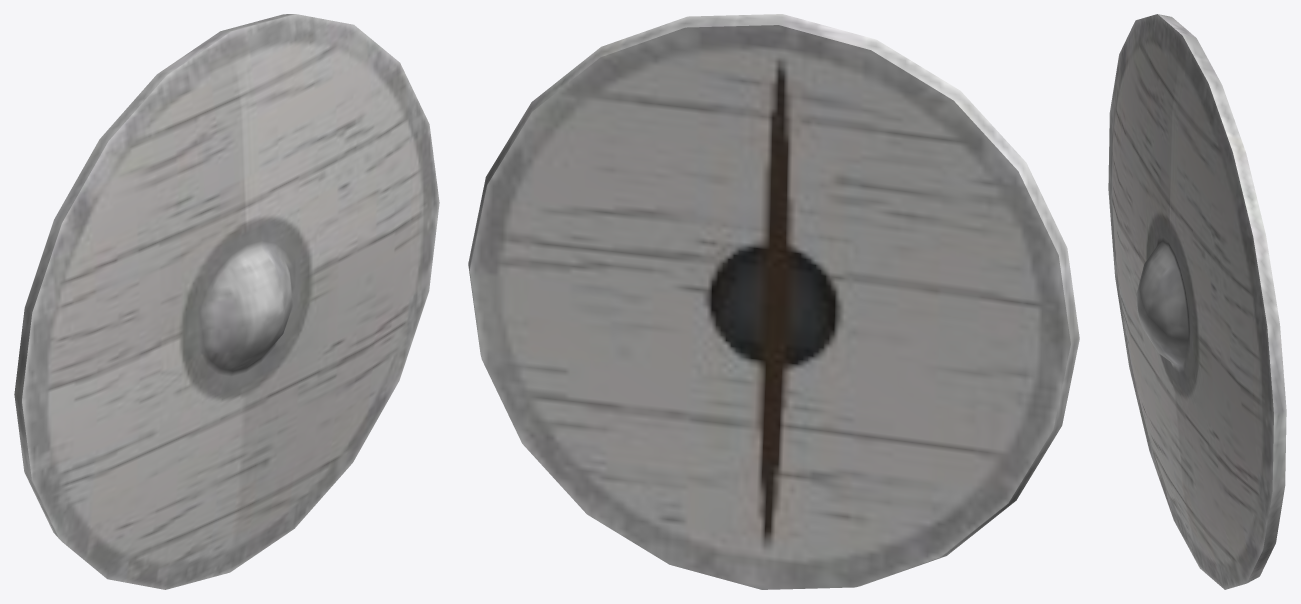
Rendered from shield-coppershields.glb.
3 renders of one model, left to right at view 1: azimuth 30°, elevation 25°; view 2: azimuth 150°, elevation 25°; view 3: azimuth 270°, elevation 25°, orthographic. The views are drawn at different scales.
Bounding box in the file's own units: 0.6305 × 0.6573 × 0.2007.
Materials: 1 (1 with a texture image).
